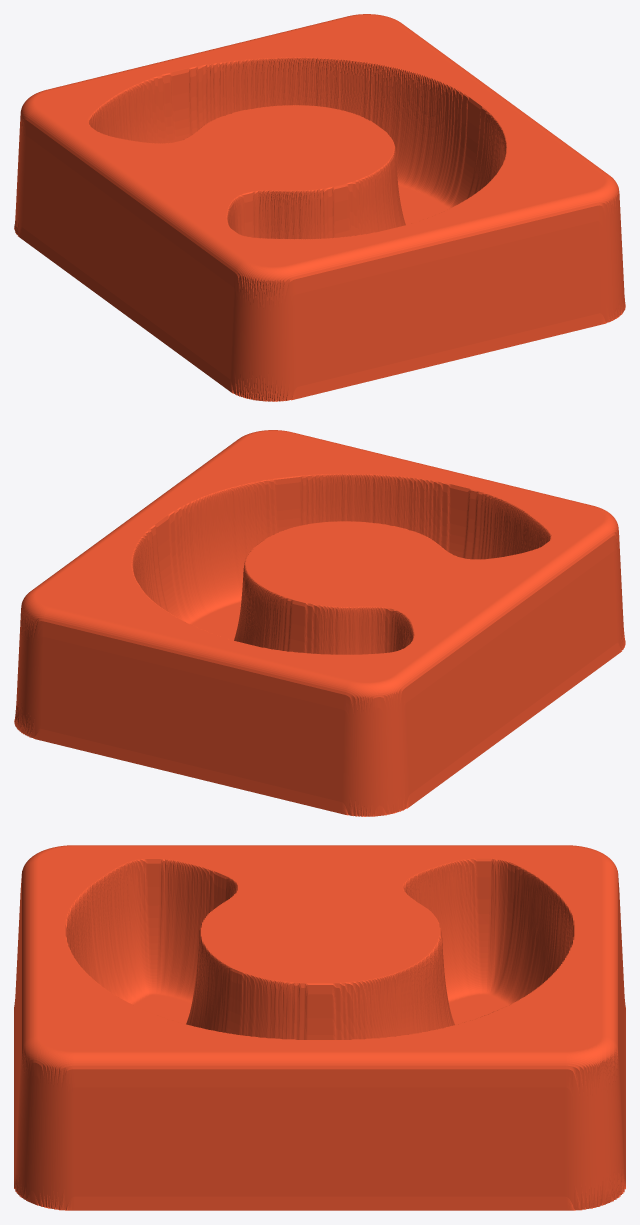
The model's file is mold.glb.
The picture shows the model from 3 angles, top to bottom: view 1: azimuth 30°, elevation 25°; view 2: azimuth 150°, elevation 25°; view 3: azimuth 270°, elevation 25°; orthographic projection. The views are drawn at different scales.
Visible parts, largest first — view 1: geometry_0; view 2: geometry_0; view 3: geometry_0.
Part boxes in pixels (box(x1,y1,x2,y2)): geometry_0: box(14, 14, 625, 401); geometry_0: box(14, 430, 625, 816); geometry_0: box(14, 845, 625, 1210).
Size of the model in its own units: 0.0804 by 0.0248 by 0.0924.
